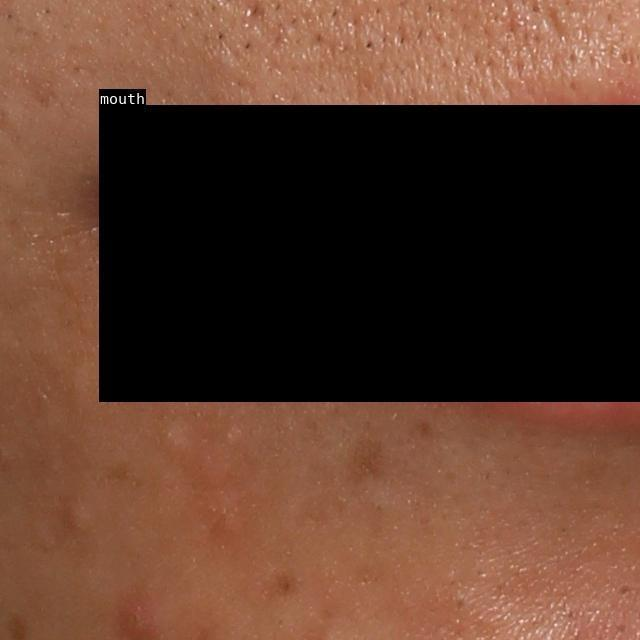atrophic_scar: (545, 3, 573, 44)
comedo: (62, 503, 96, 536)
